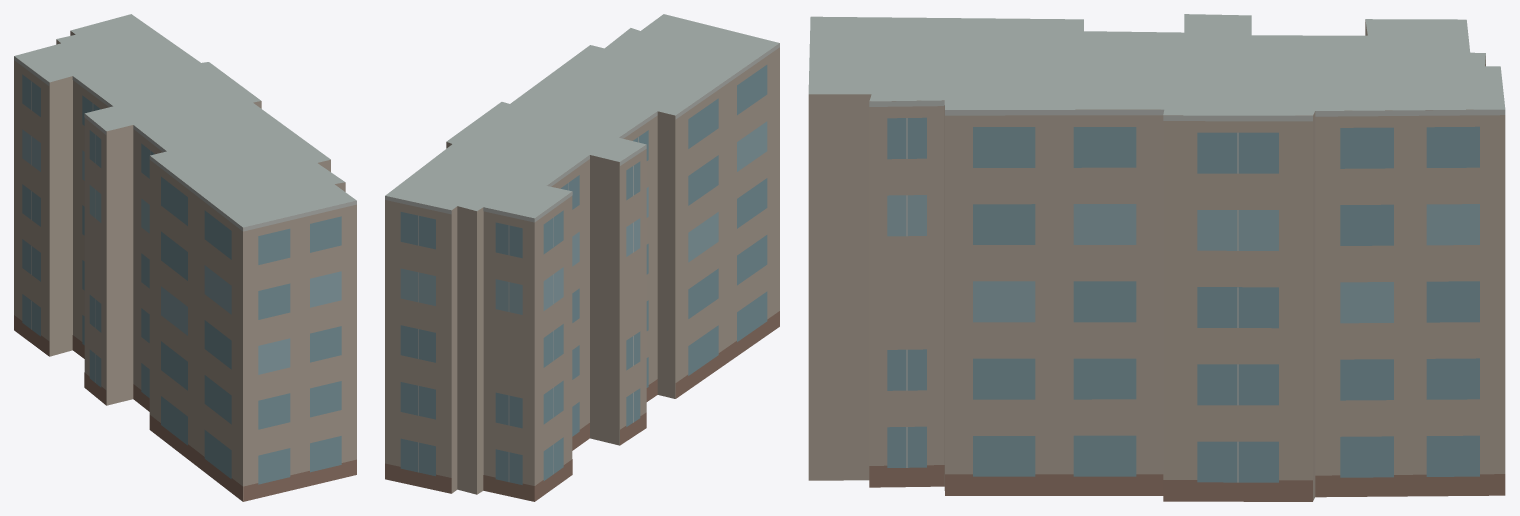
Rendered from survey-upis-32759048.glb.
3 renders of one model, left to right at view 1: azimuth 30°, elevation 25°; view 2: azimuth 150°, elevation 25°; view 3: azimuth 270°, elevation 25°, orthographic. The views are drawn at different scales.
Parts seen in each view (by area): view 1: survey-upis-32759048.tmp; view 2: survey-upis-32759048.tmp; view 3: survey-upis-32759048.tmp.
Boxes of the visible parts, box(x1,y1,x2,y2) form: survey-upis-32759048.tmp: box(14, 14, 356, 501); survey-upis-32759048.tmp: box(385, 14, 779, 501); survey-upis-32759048.tmp: box(808, 14, 1505, 501).
Bounding box in the file's own units: 9.45 × 16.7 × 27.33.
